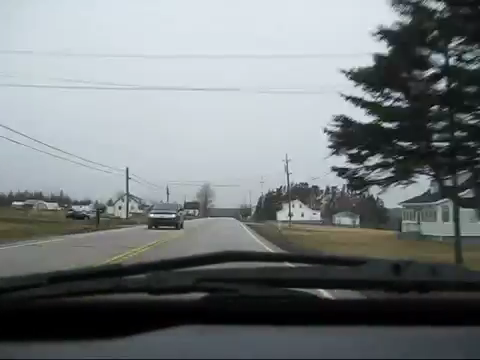car: (146, 202, 185, 230)
